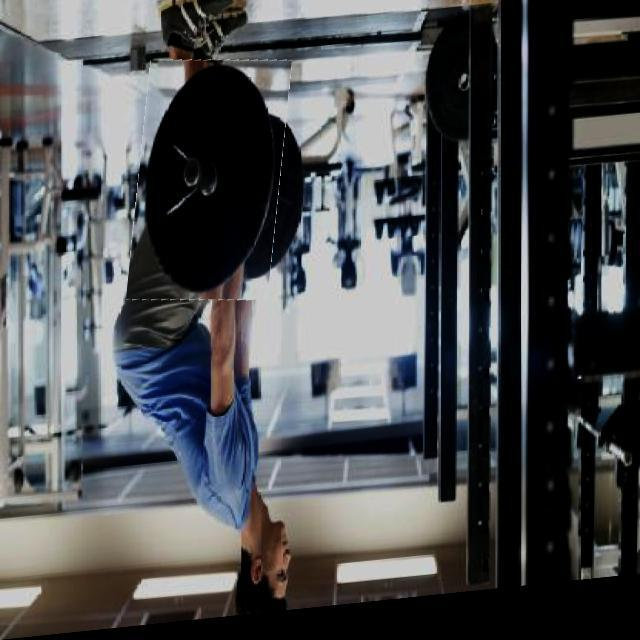barbell: (133, 57, 287, 313)
